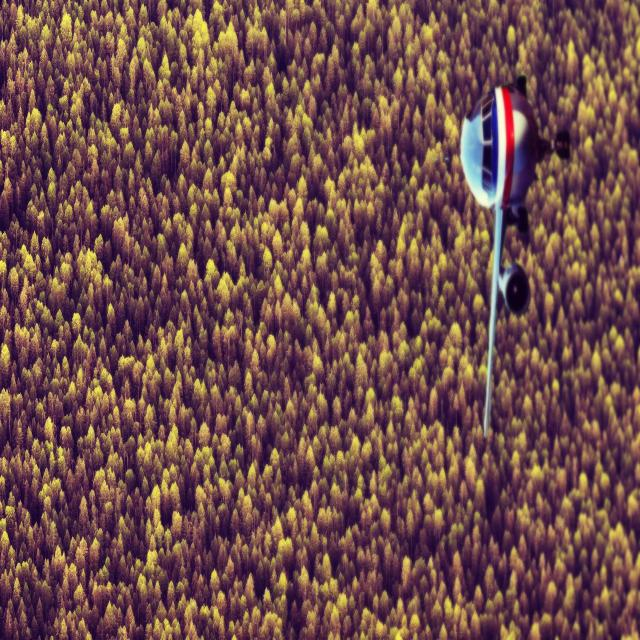airplane: (459, 74, 571, 438)
